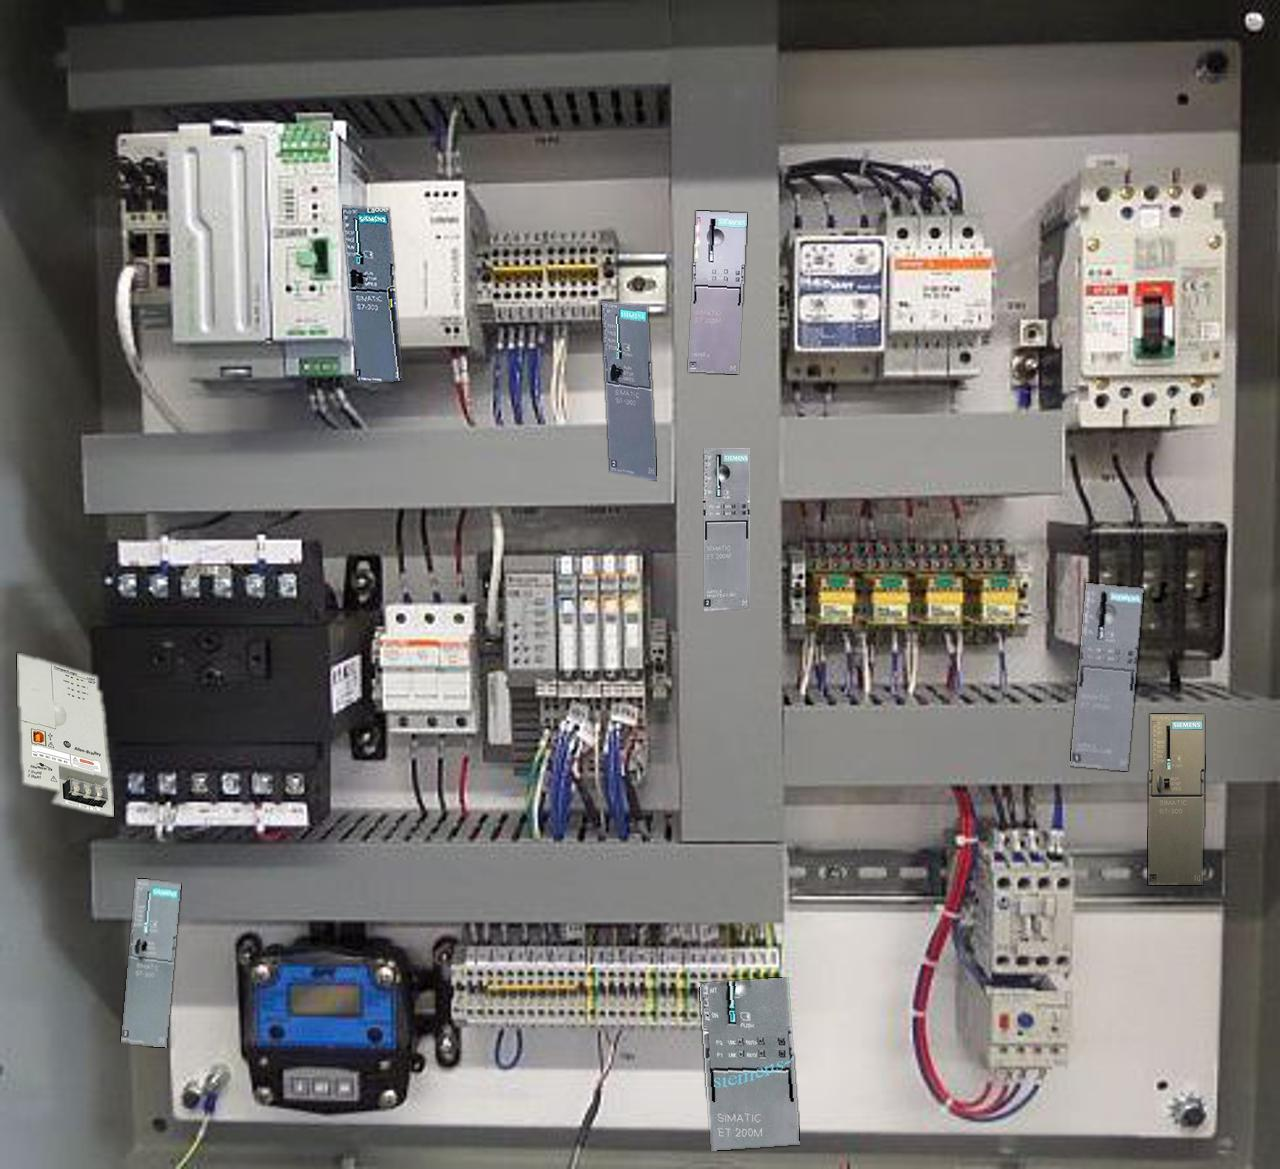AllenBradley: (17, 653, 113, 817)
Siemens: (342, 206, 401, 381), (122, 878, 180, 1047), (601, 301, 656, 479), (1148, 714, 1204, 883)
